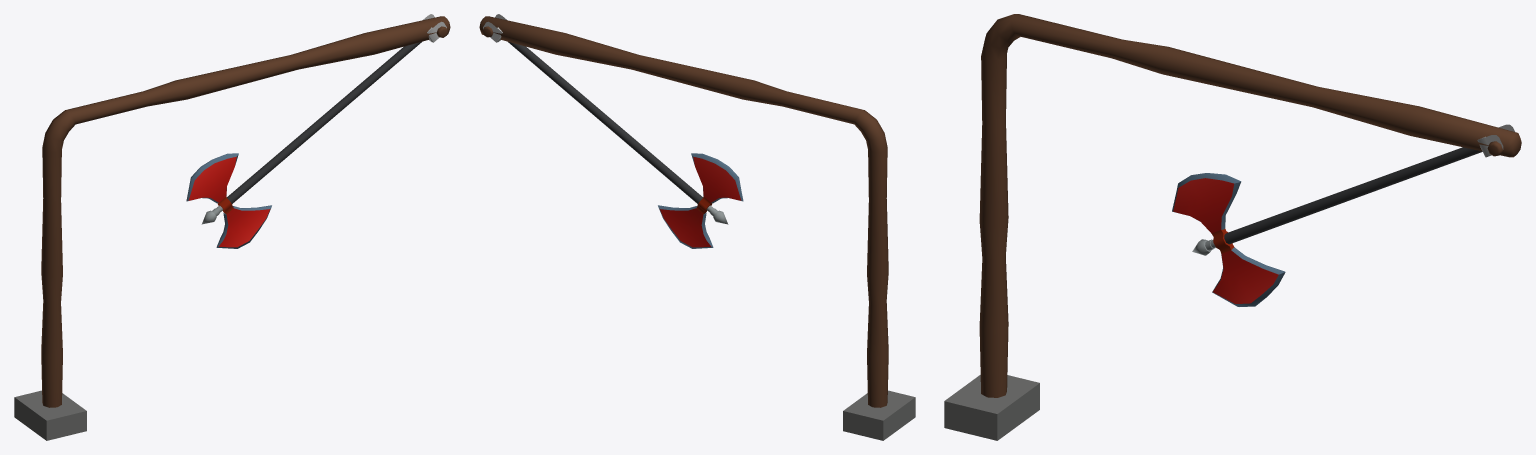
File: sarkacS.fbx
3 views of the same model, side by side, from view 1: azimuth 30°, elevation 25°; view 2: azimuth 150°, elevation 25°; view 3: azimuth 330°, elevation 25° (orthographic). The views are drawn at different scales.
Visible parts, largest first — view 1: sarkacS, baltaS; view 2: sarkacS, baltaS; view 3: sarkacS, baltaS.
Part boxes in pixels (x1,y1,x2,y2): sarkacS: (14, 16, 450, 440); baltaS: (186, 14, 446, 248); sarkacS: (479, 16, 915, 440); baltaS: (483, 14, 743, 248); sarkacS: (944, 14, 1521, 440); baltaS: (1172, 124, 1514, 306).
Bounding box in the file's own units: 603 × 434 × 80.72.
